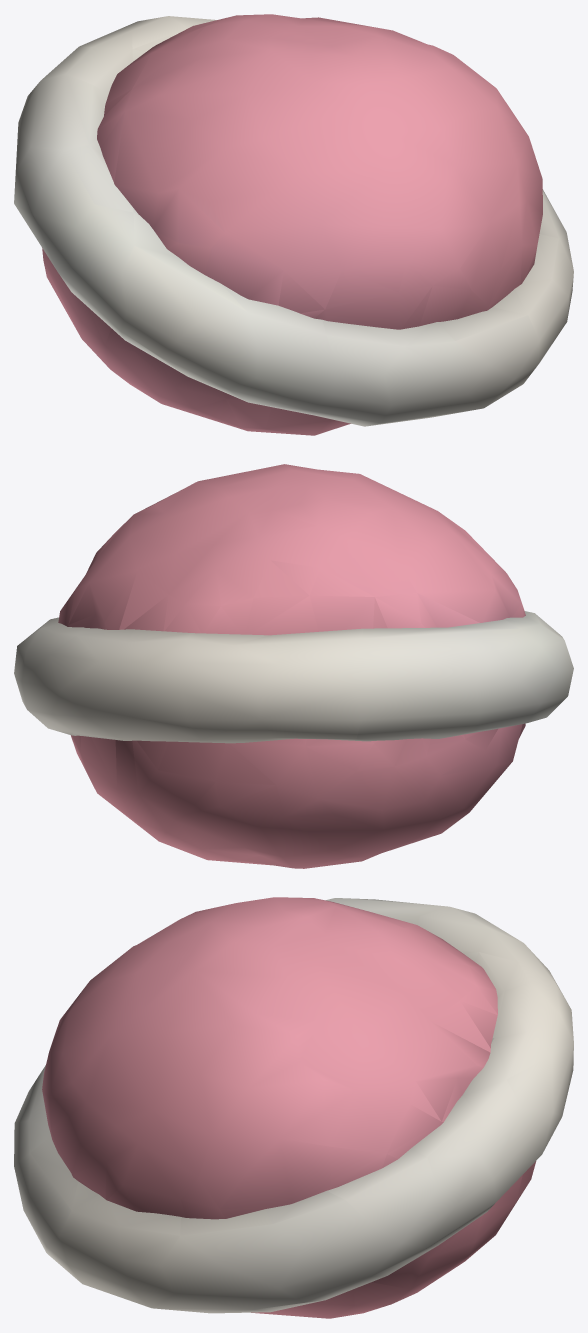
The model's file is den_sock_ball_lod1.glb.
3 views of the same model, one above another, from view 1: azimuth 30°, elevation 25°; view 2: azimuth 150°, elevation 25°; view 3: azimuth 270°, elevation 25° (orthographic). The views are drawn at different scales.
Visible parts, largest first — view 1: den_sock_ball.001; view 2: den_sock_ball.001; view 3: den_sock_ball.001.
Part boxes in pixels (left/top/right/bottom): den_sock_ball.001: left=14, top=14, right=573, bottom=435; den_sock_ball.001: left=14, top=464, right=573, bottom=868; den_sock_ball.001: left=14, top=897, right=573, bottom=1318.
Size of the model in its own units: 7.36 by 5.2 by 7.18.
